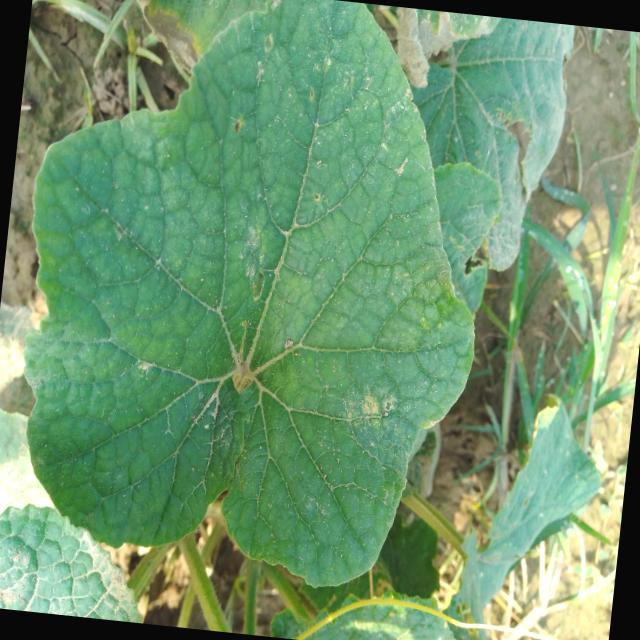cucumber_healthy: (0, 0, 518, 604), (452, 389, 614, 627)
